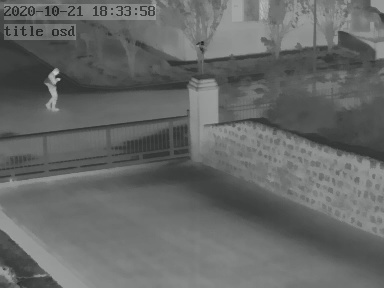person: (44, 66, 61, 110)
